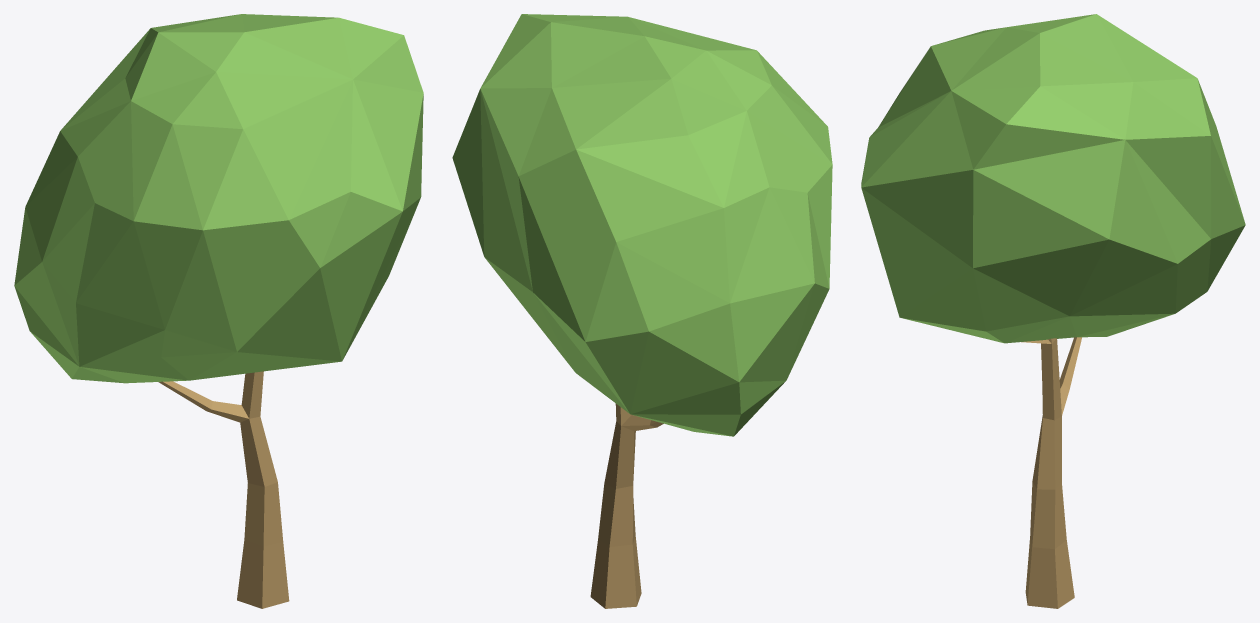
Rendered from Oak_Tree_m_03_LOD.fbx.
The picture shows the model from 3 angles, left to right: view 1: azimuth 30°, elevation 25°; view 2: azimuth 150°, elevation 25°; view 3: azimuth 270°, elevation 25°; orthographic projection. The views are drawn at different scales.
Parts seen in each view (by area): view 1: Oak_Tree_m_03_LOD0; view 2: Oak_Tree_m_03_LOD0; view 3: Oak_Tree_m_03_LOD0.
Part boxes in pixels (bbox=[...]): Oak_Tree_m_03_LOD0: bbox=[14, 14, 423, 608]; Oak_Tree_m_03_LOD0: bbox=[452, 14, 832, 608]; Oak_Tree_m_03_LOD0: bbox=[861, 14, 1245, 608].
Size of what is drawn, in the model's own units: 490 by 774 by 487.
